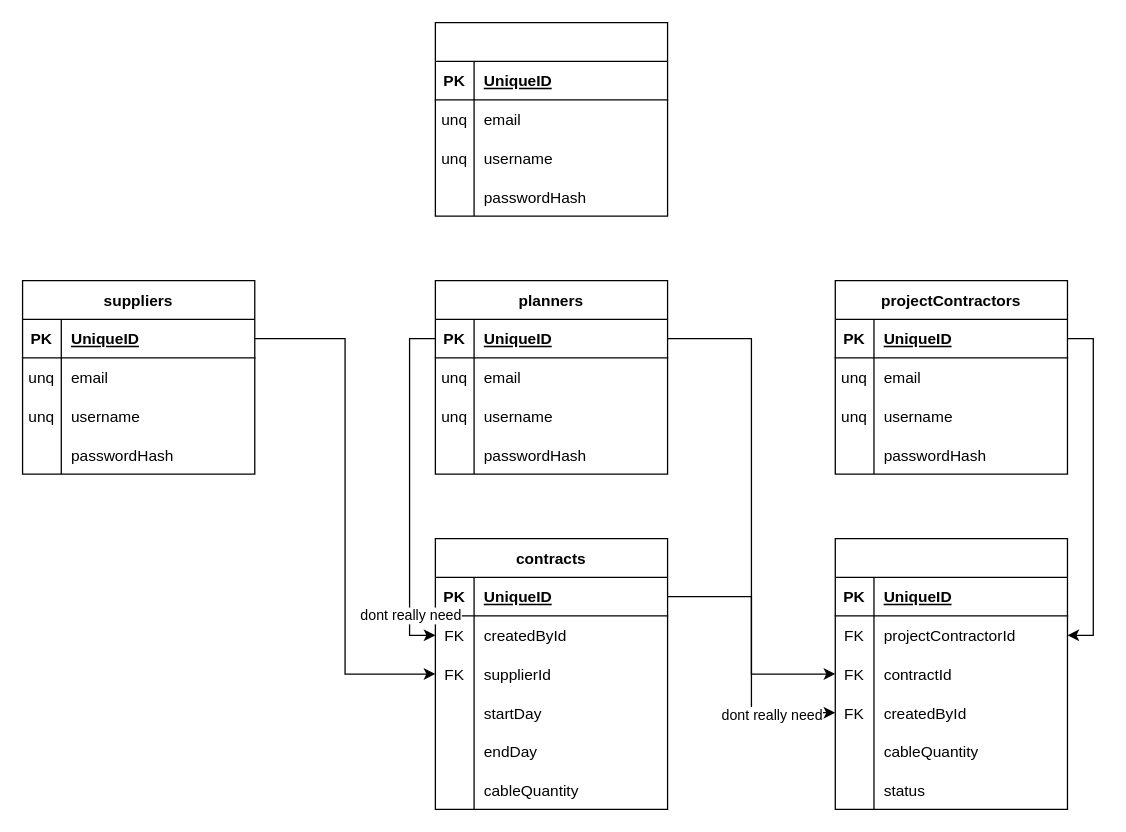
Some shapes in this 1126 by 832 pixel diagram are drawn without their labels. The box of each missing label's shape, as (x1, y1, x2, y2) in pixels:
admins: (434, 21, 668, 216)
withdrawRequests: (834, 537, 1067, 809)
